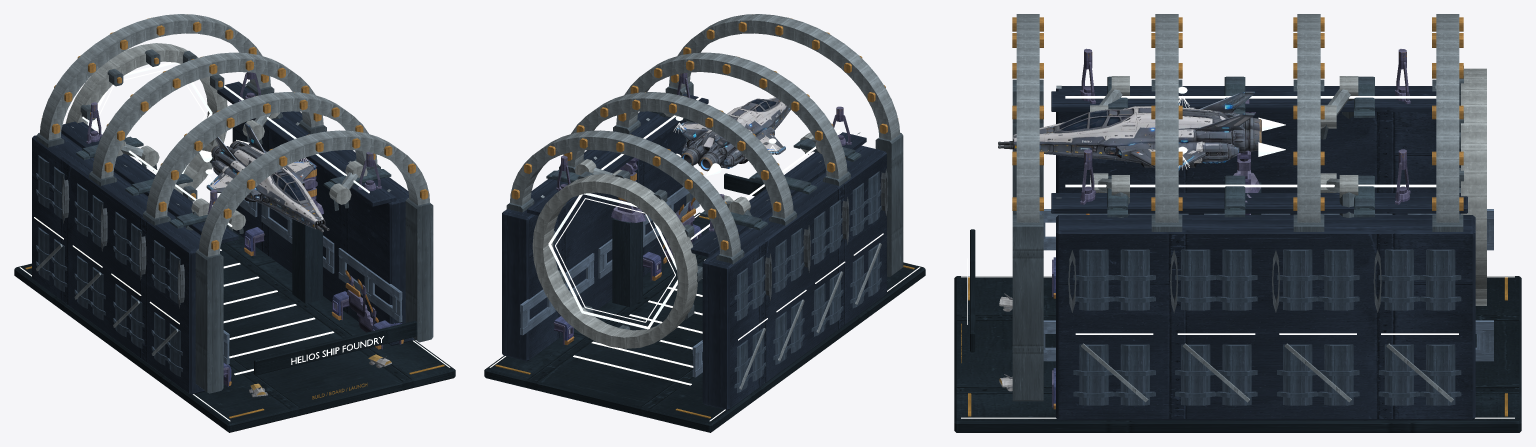
3 views of the same model, side by side, from view 1: azimuth 30°, elevation 25°; view 2: azimuth 150°, elevation 25°; view 3: azimuth 270°, elevation 25° (orthographic). The views are drawn at different scales.
Parts seen in each view (by area): view 1: Static, CapitalShipShape, Repair pedestal Right, JumpPortalShape; view 2: Static, CapitalShipShape, Repair pedestal Right, JumpPortalShape, RepairRightShape; view 3: Static, CapitalShipShape, RepairLeftShape.
Part boxes in pixels (box(x1,y1,x2,y2)): Static: box(14, 14, 455, 432); CapitalShipShape: box(206, 123, 329, 232); Repair pedestal Right: box(292, 215, 322, 303); JumpPortalShape: box(88, 62, 212, 173); Static: box(484, 14, 925, 432); CapitalShipShape: box(676, 97, 790, 171); Repair pedestal Right: box(612, 218, 642, 306); JumpPortalShape: box(548, 193, 677, 329); RepairRightShape: box(611, 157, 645, 222); Static: box(954, 14, 1521, 432); CapitalShipShape: box(998, 91, 1261, 170); RepairLeftShape: box(1233, 99, 1260, 192).
Size of the model in its own units: 11.7 by 11.7 by 18.4.
Materials: 4 (3 with a texture image).
